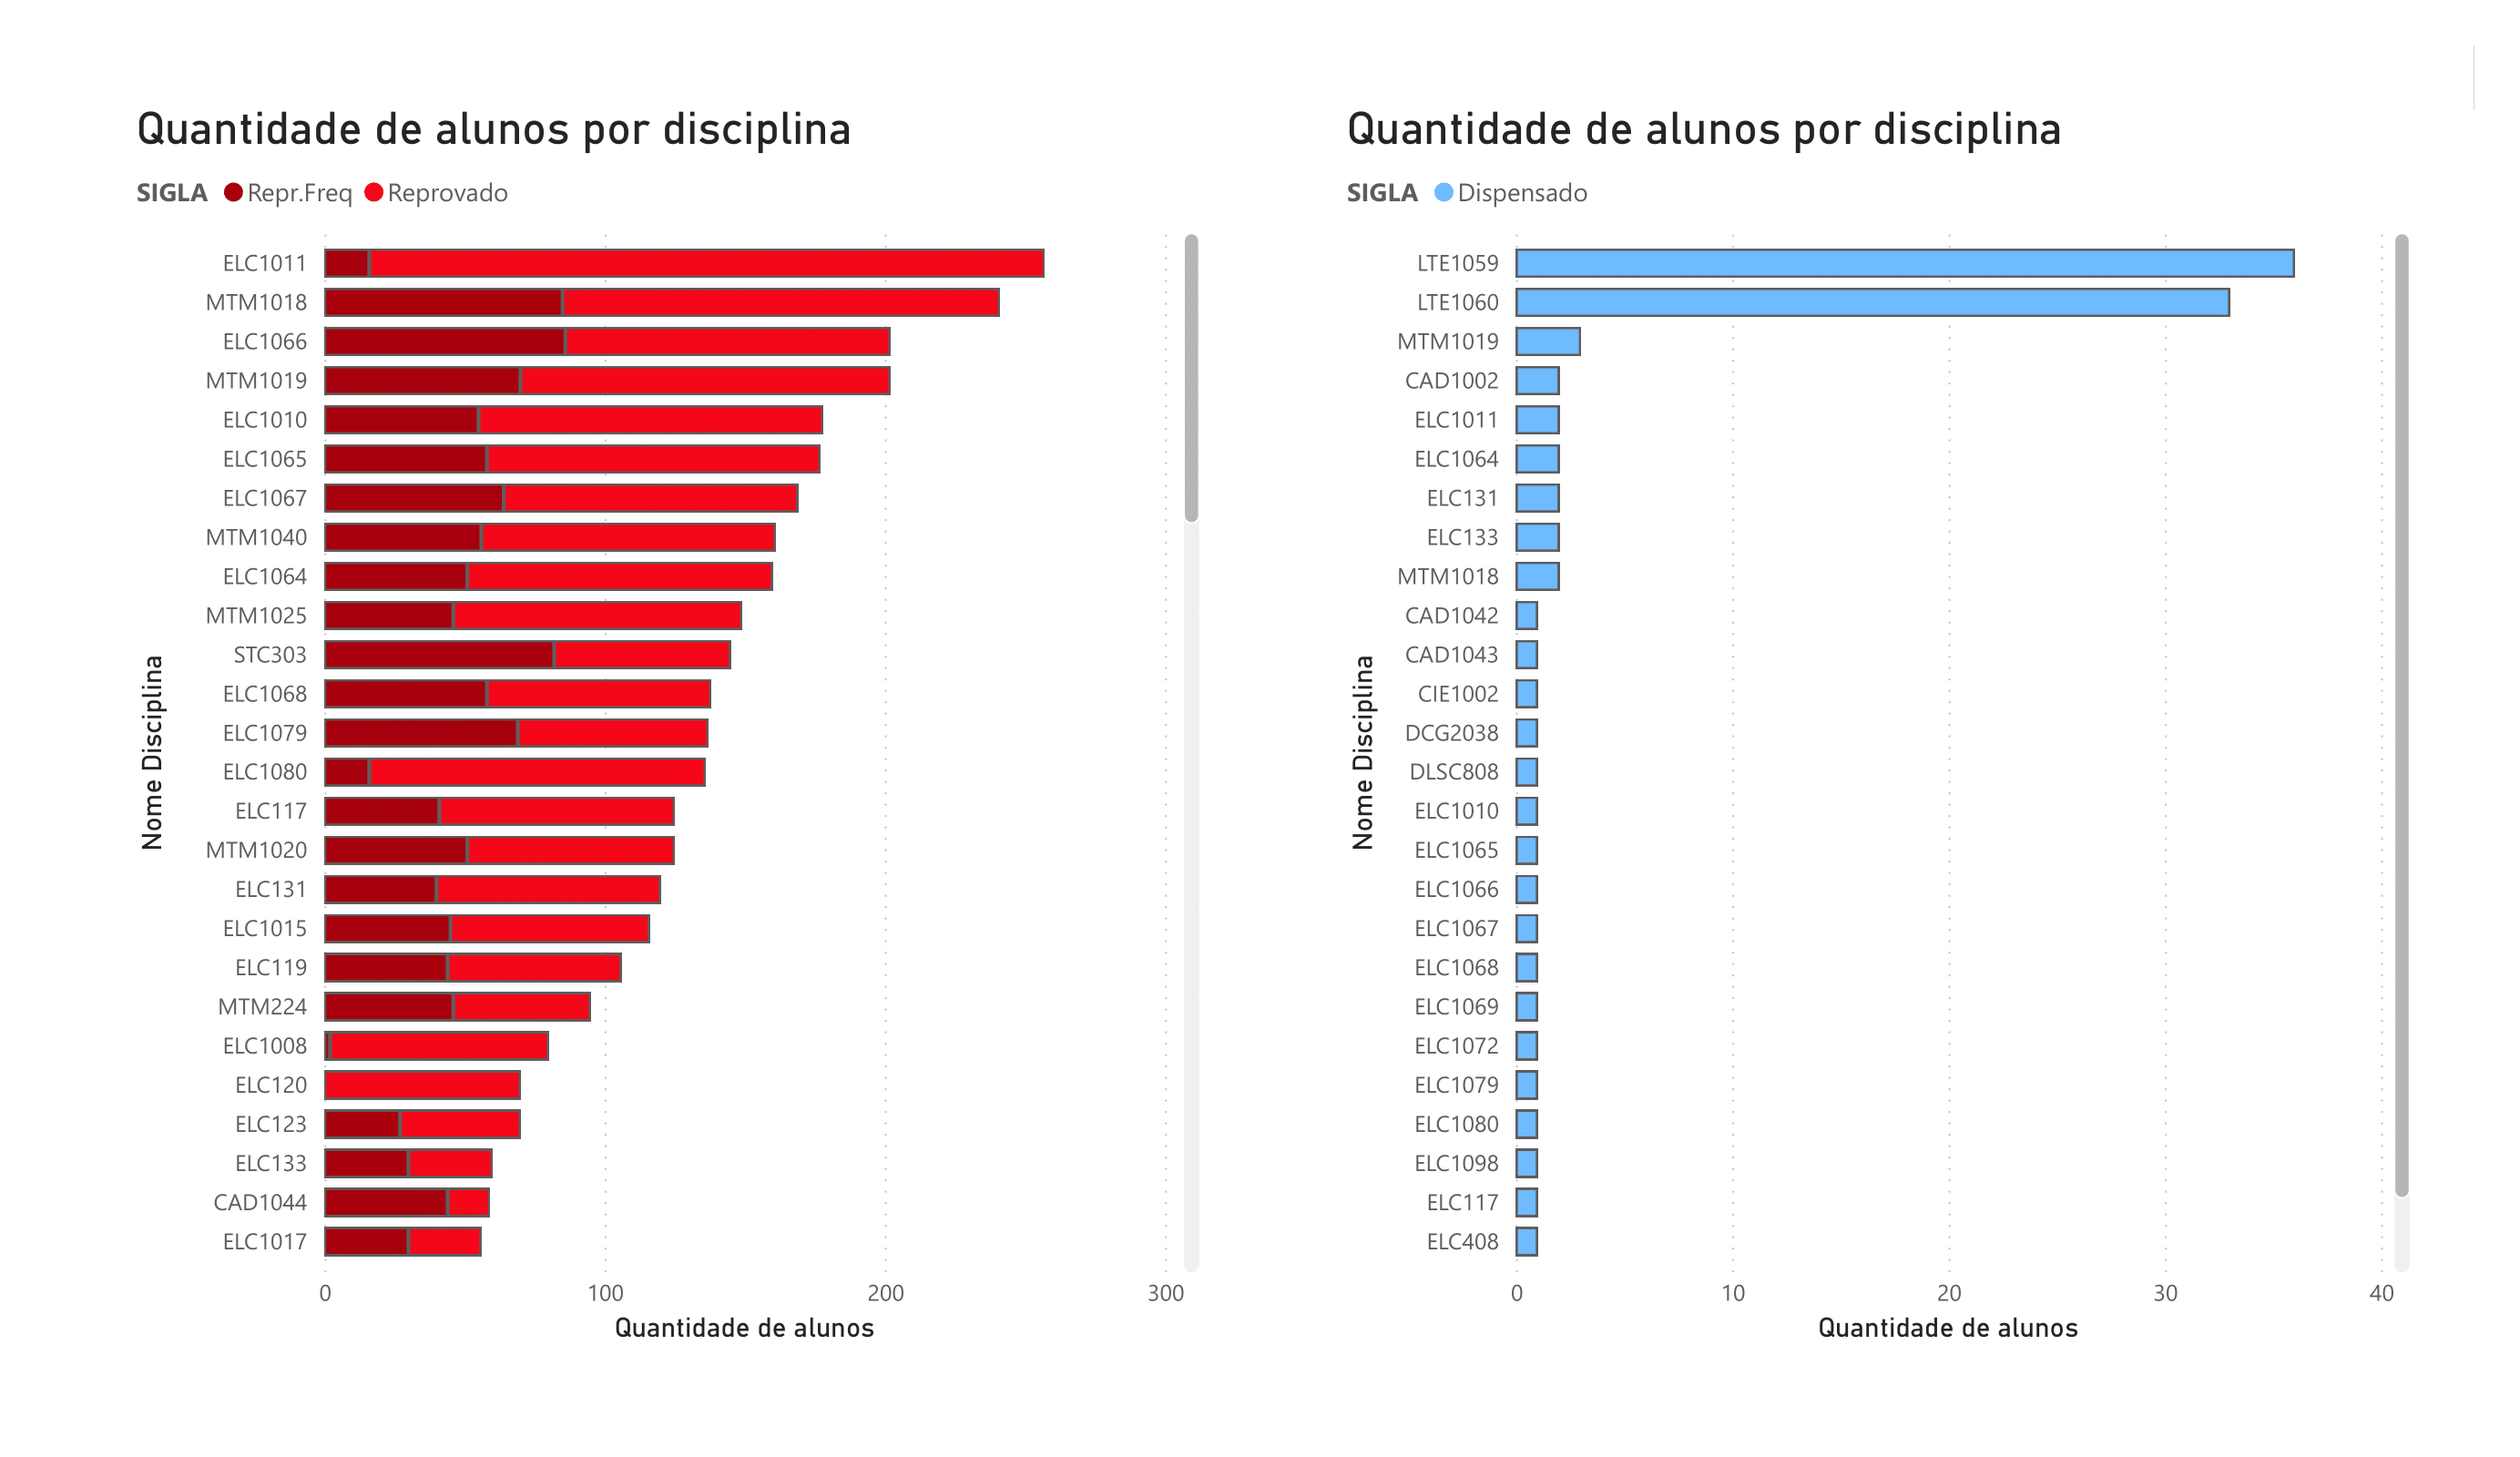

The dashboard page shown, as its layout file describes it:
{"tool":"powerbi","page":{"name":"Visao_geral2","canvas":[1280,720],"ordinal":2},"visuals":[{"type":"barChart","title":"Disciplinas com mais reprovações","fields":{"Category":["Dados.COD_DISCIPLINA"],"Y":["Sum(Dados.TOTAL_ALUNOS)"],"Series":["Dados.SIGLA"]},"box":[0,67.4,640,652.4],"z":0},{"type":"barChart","title":"Disciplinas com mais alunos dispensados","fields":{"Category":["Dados.COD_DISCIPLINA"],"Y":["Sum(Dados.TOTAL_ALUNOS)"],"Series":["Dados.SIGLA"]},"box":[640,67.4,640,326.2],"z":1000},{"type":"card","fields":{"Values":["Dados.NomeCurso"]},"box":[125,0,1028.3,56.7],"z":2000},{"type":"barChart","title":"Disciplina com mais trancamentos parciais","fields":{"Category":["Dados.COD_DISCIPLINA"],"Y":["Sum(Dados.TOTAL_ALUNOS)"],"Series":["Dados.SIGLA"]},"box":[640,393.6,640,326.2],"z":3000}]}

Visuals, with their boxes on the page's 1280x720 design canvas (x1, y1, x2, y2). These are canvas units, not pixel positions in the 2520x1457 screenshot, which may show the page scaled, cropped or inside an application window:
"Disciplinas com mais reprovações" barChart: [0, 67, 640, 720]
"Disciplinas com mais alunos dispensados" barChart: [640, 67, 1280, 394]
card - Dados.NomeCurso: [125, 0, 1153, 57]
"Disciplina com mais trancamentos parciais" barChart: [640, 394, 1280, 720]
